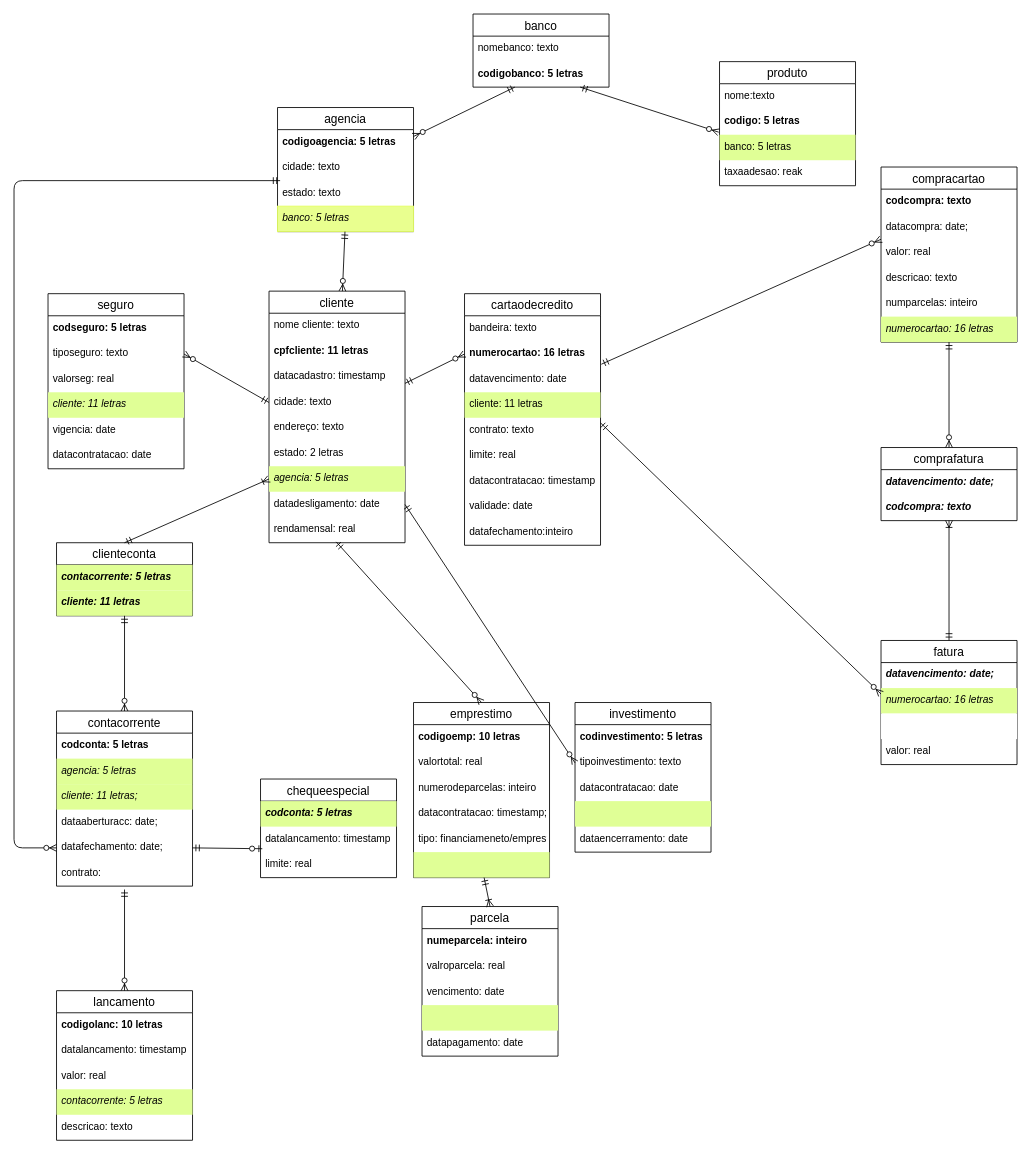
Image size: 1031x1154. Some labels were removed from this diagram. The centre of each missing label's shape, as x and y in pixels:
"cliente: 14 letras" goes at point 481,864.
"cliente: 14 letras;" goes at point 643,813.
"datadopagamento: date;" goes at point 949,726.
"emprestimo: 10 letras" goes at point 490,1017.
